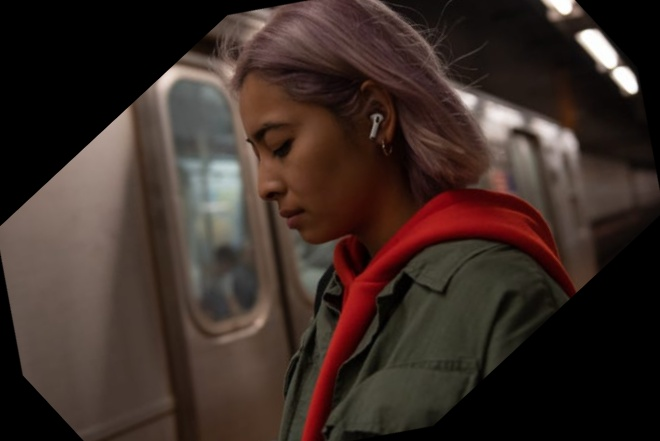earphone: (330, 62, 429, 162)
